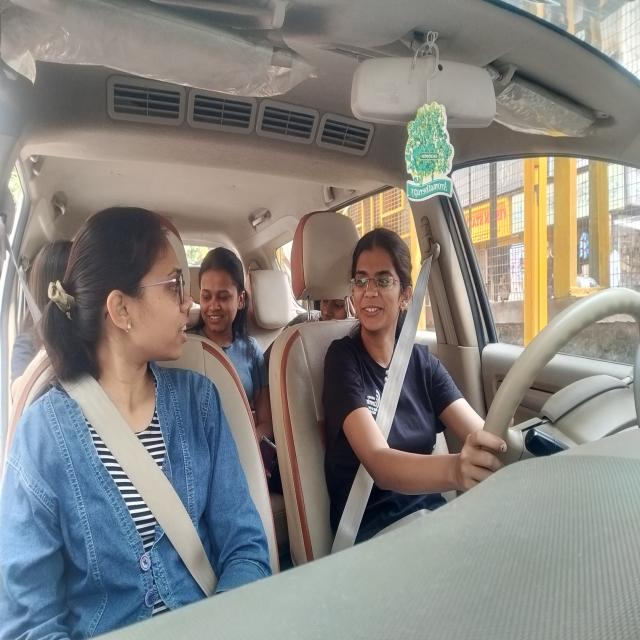LeftRight: (351, 225, 415, 336)
person: (70, 205, 193, 366), (200, 246, 252, 336), (316, 294, 348, 322)
talking: (175, 318, 192, 350), (359, 304, 391, 320)
